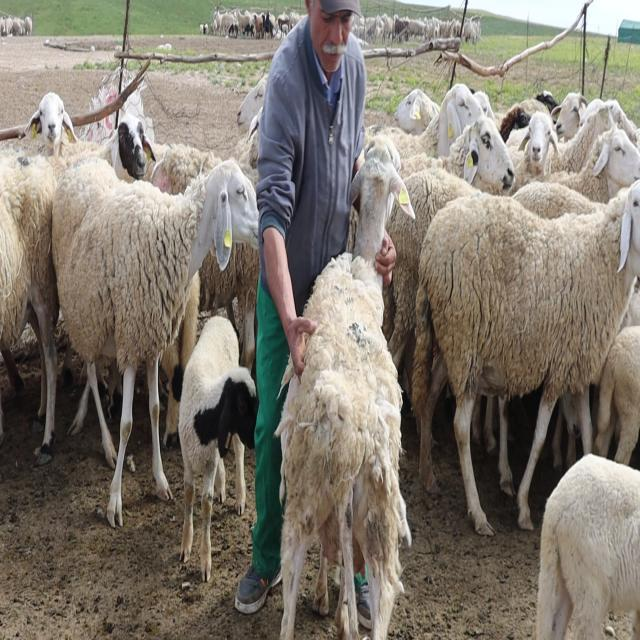Score_2: (275, 147, 411, 639)
